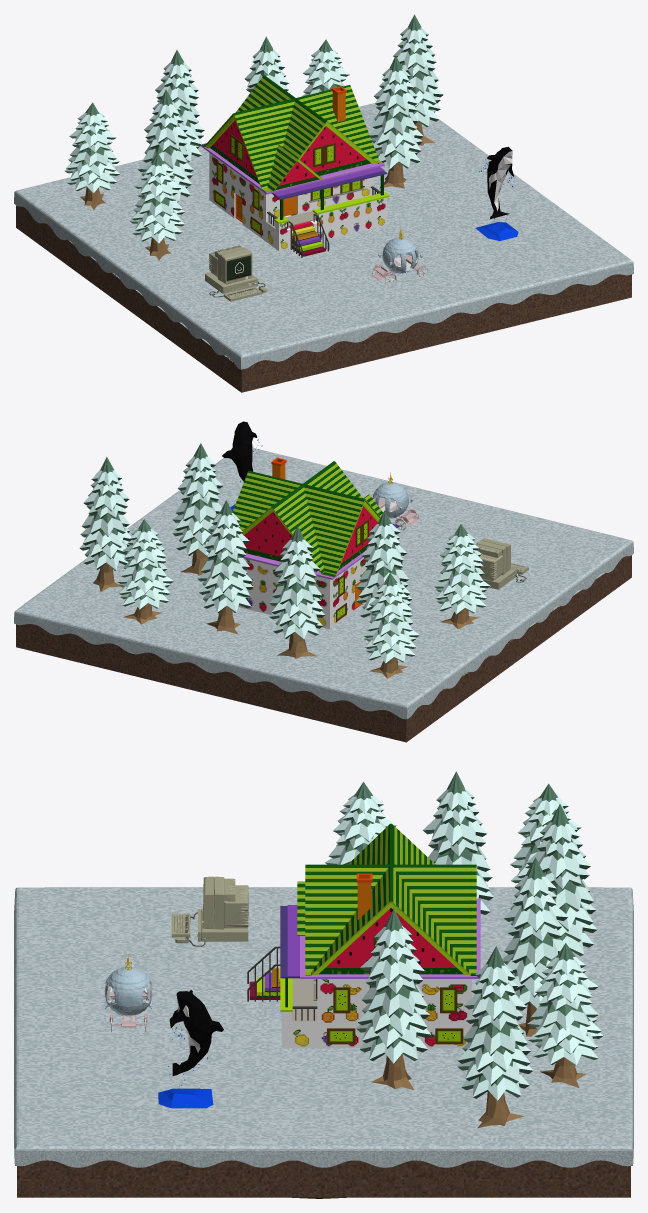
The picture shows the model from 3 angles, top to bottom: view 1: azimuth 30°, elevation 25°; view 2: azimuth 150°, elevation 25°; view 3: azimuth 270°, elevation 25°; orthographic projection. The views are drawn at different scales.
Visible parts, largest first — view 1: Cube.003, Cube.1063, OBJRANDOM_RETRO_PC, ANIMAL_ORCA, VEHICLES_FANTASY_CARRIAGE; view 2: Cube.003, Cube.1063, OBJRANDOM_RETRO_PC, VEHICLES_FANTASY_CARRIAGE, ANIMAL_ORCA; view 3: Cube.003, Cube.1063, OBJRANDOM_RETRO_PC, ANIMAL_ORCA, VEHICLES_FANTASY_CARRIAGE.
Part boxes in pixels (x1,y1,x2,y2): Cube.003: (14, 14, 633, 392); Cube.1063: (200, 75, 389, 257); OBJRANDOM_RETRO_PC: (205, 245, 267, 301); ANIMAL_ORCA: (475, 146, 518, 240); VEHICLES_FANTASY_CARRIAGE: (371, 228, 428, 285); Cube.003: (14, 443, 633, 742); Cube.1063: (232, 457, 402, 629); OBJRANDOM_RETRO_PC: (476, 538, 528, 589); VEHICLES_FANTASY_CARRIAGE: (372, 472, 419, 530); ANIMAL_ORCA: (222, 421, 262, 511); Cube.003: (14, 771, 633, 1197); Cube.1063: (247, 823, 480, 1048); OBJRANDOM_RETRO_PC: (171, 876, 248, 946); ANIMAL_ORCA: (158, 990, 223, 1108); VEHICLES_FANTASY_CARRIAGE: (102, 954, 154, 1032).
Bounding box in the file's own units: 4040 × 1758 × 4040.
Materials: 29 (5 with a texture image).
